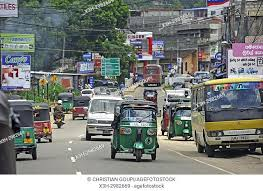tuk tuk: (110, 99, 159, 160), (13, 100, 38, 159), (170, 102, 191, 141), (34, 103, 52, 144), (72, 97, 87, 119), (61, 93, 72, 114), (143, 87, 158, 101)
